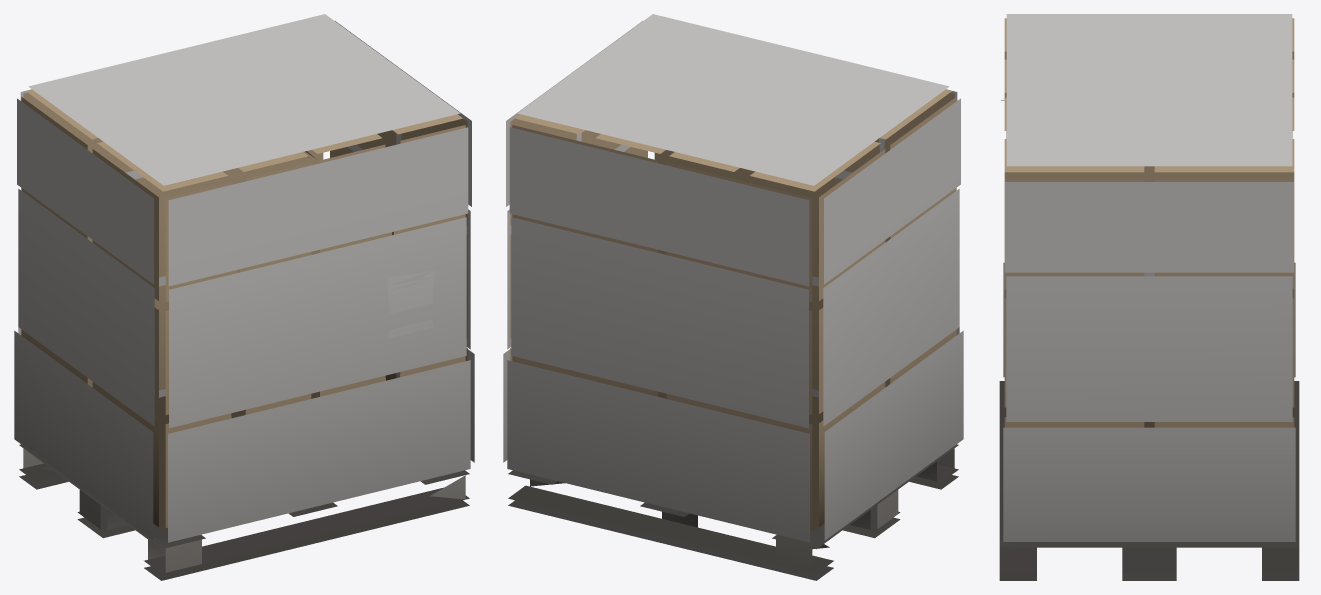
File: wrap.lod.glb
3 views of the same model, side by side, from view 1: azimuth 30°, elevation 25°; view 2: azimuth 150°, elevation 25°; view 3: azimuth 270°, elevation 25° (orthographic). The views are drawn at different scales.
Parts seen in each view (by area): view 1: wrap; view 2: wrap; view 3: wrap.
Boxes of the visible parts, x1,y1,x2,y2 form: wrap: (14,14,474,580); wrap: (503,14,963,580); wrap: (999,14,1299,580).
Size of the model in its own units: 1.04 by 1.21 by 0.84.
